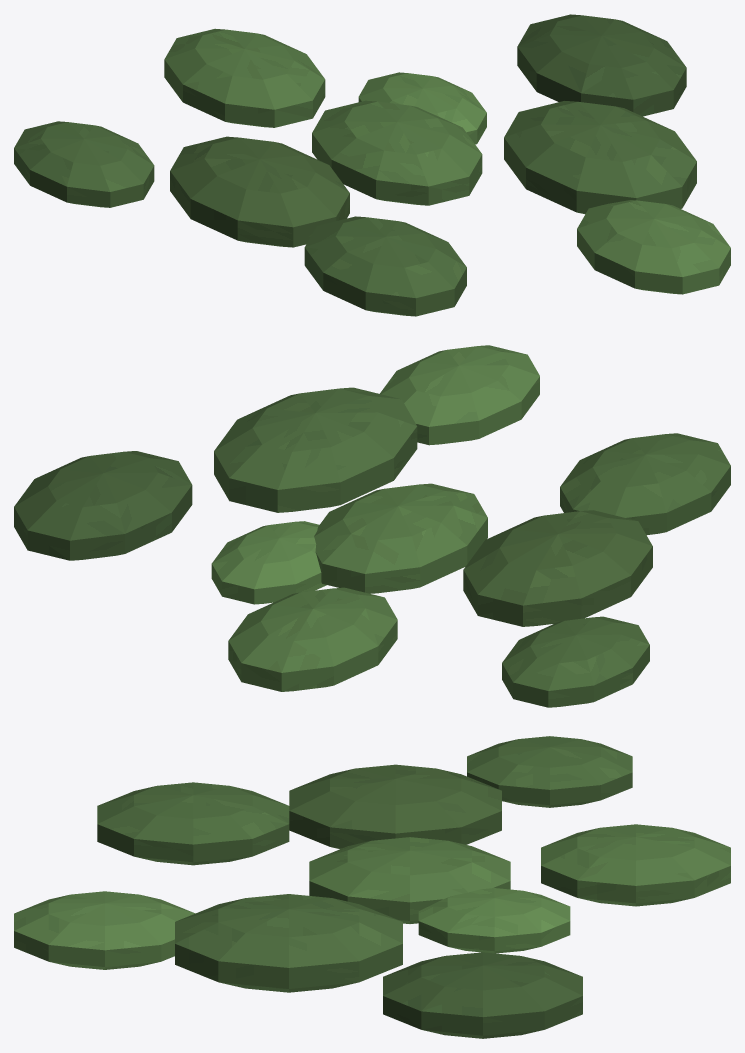
File: seed_weed.glb
3 renders of one model, top to bottom at view 1: azimuth 30°, elevation 25°; view 2: azimuth 150°, elevation 25°; view 3: azimuth 270°, elevation 25°, orthographic. The views are drawn at different scales.
Parts seen in each view (by area): view 1: block_grain 3, block_grain 2, block_grain 0, block_grain 6, block_grain 5, block_grain 4, block_grain 8, block_grain 7, block_grain 1; view 2: block_grain 3, block_grain 2, block_grain 6, block_grain 0, block_grain 4, block_grain 5, block_grain 8, block_grain 7, block_grain 1; view 3: block_grain 3, block_grain 2, block_grain 6, block_grain 5, block_grain 4, block_grain 0, block_grain 8, block_grain 7, block_grain 1.
Boxes of the visible parts, x1,y1,x2,y2 form: block_grain 3: (504, 101, 696, 214); block_grain 2: (170, 136, 349, 247); block_grain 0: (312, 100, 482, 205); block_grain 6: (517, 14, 686, 116); block_grain 5: (304, 216, 466, 316); block_grain 4: (164, 28, 325, 127); block_grain 8: (577, 200, 730, 294); block_grain 7: (14, 121, 154, 207); block_grain 1: (358, 72, 486, 144); block_grain 3: (214, 387, 417, 512); block_grain 2: (463, 510, 652, 626); block_grain 6: (14, 451, 192, 560); block_grain 0: (314, 483, 487, 593); block_grain 4: (228, 587, 397, 691); block_grain 5: (560, 433, 730, 534); block_grain 8: (380, 345, 539, 445); block_grain 7: (502, 616, 649, 707); block_grain 1: (211, 521, 326, 604); block_grain 3: (175, 894, 402, 992); block_grain 2: (289, 764, 501, 848); block_grain 6: (383, 952, 582, 1038); block_grain 5: (97, 782, 289, 865); block_grain 4: (541, 824, 730, 906); block_grain 0: (309, 837, 510, 923); block_grain 8: (14, 891, 195, 969); block_grain 7: (467, 736, 632, 807); block_grain 1: (418, 888, 570, 953).
Size of the model in its own units: 0.0572 by 0.00639 by 0.0608.
1 material, 1 textured.
